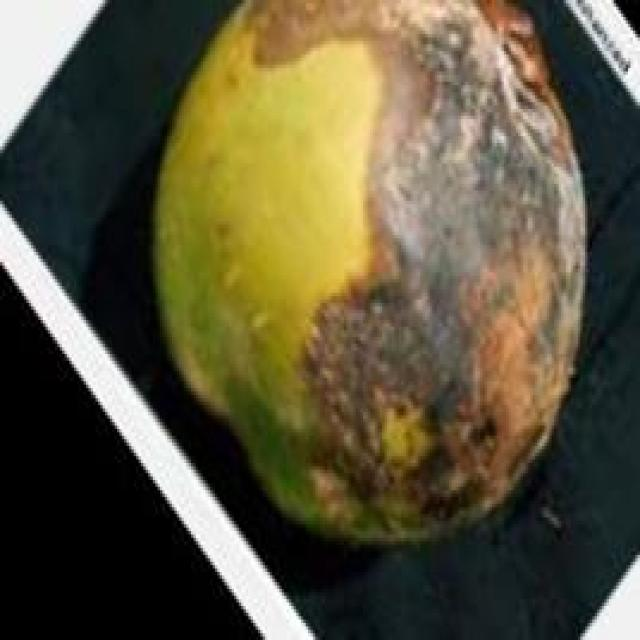damaged: (148, 0, 619, 569)
